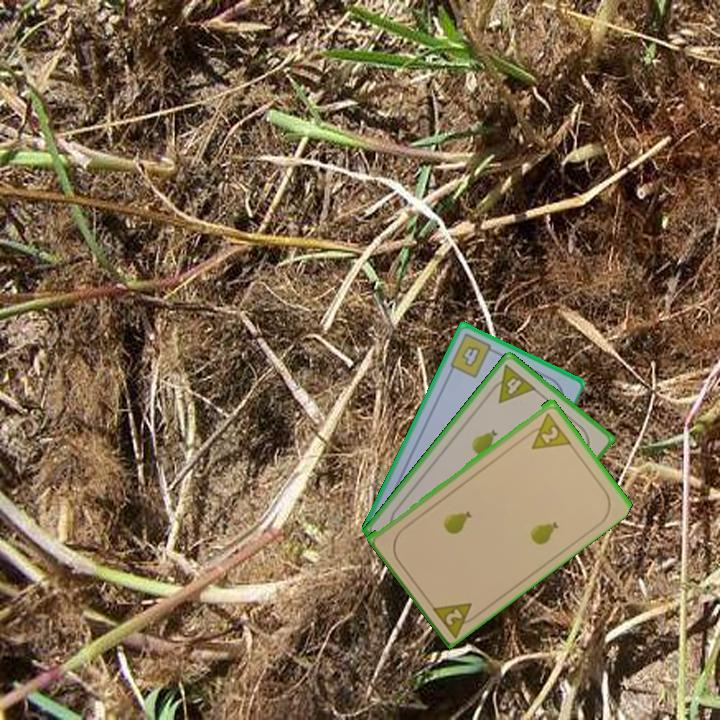2p: (427, 598, 483, 639), (521, 409, 573, 452)
4b: (446, 330, 500, 381)
4p: (484, 361, 539, 406)
